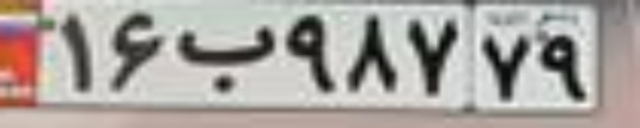1: (57, 10, 94, 94)
6: (103, 14, 165, 91)
7: (404, 17, 458, 96), (481, 32, 532, 101)
8: (342, 13, 397, 94)
9: (284, 13, 336, 93), (538, 32, 587, 101)
be: (176, 23, 275, 97)
